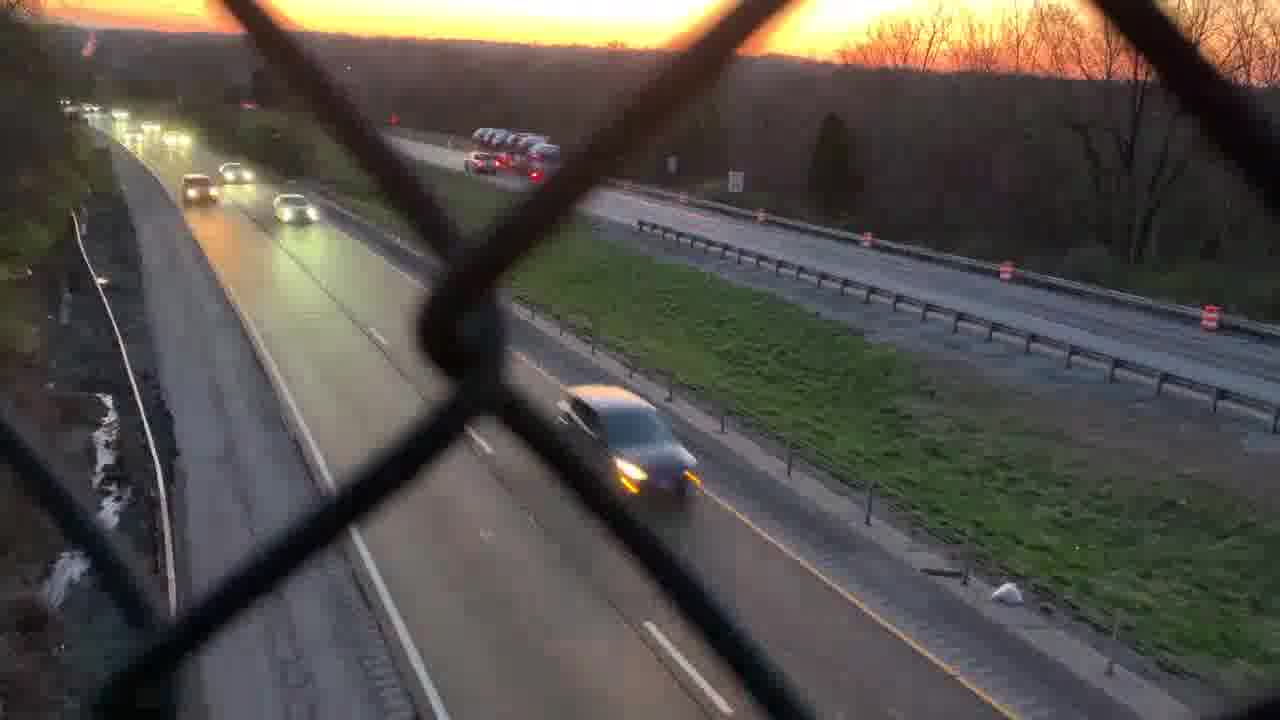largeCar: (552, 377, 702, 498)
smallCar: (271, 192, 311, 227)
